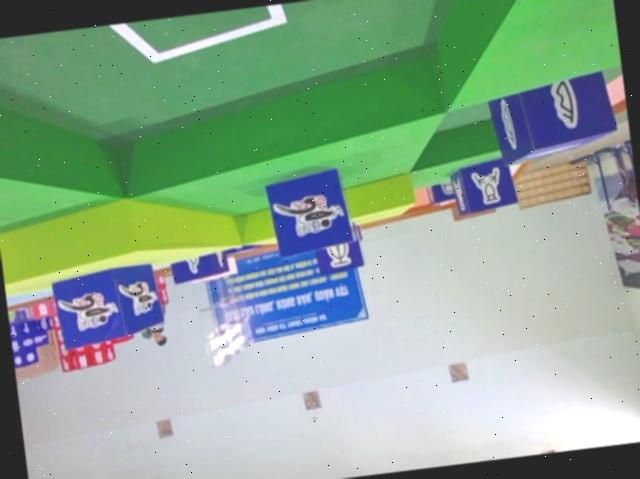R1 Blue: (45, 259, 161, 348), (260, 162, 357, 256)
R2 Fake Blue: (313, 237, 365, 275)
R2 Real Blue: (485, 68, 618, 165), (449, 154, 519, 216), (170, 248, 233, 284)
